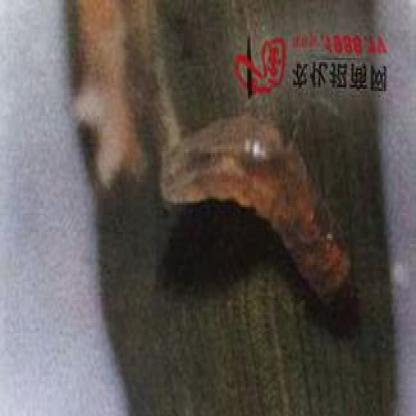whorl-maggot: (160, 112, 354, 314)
